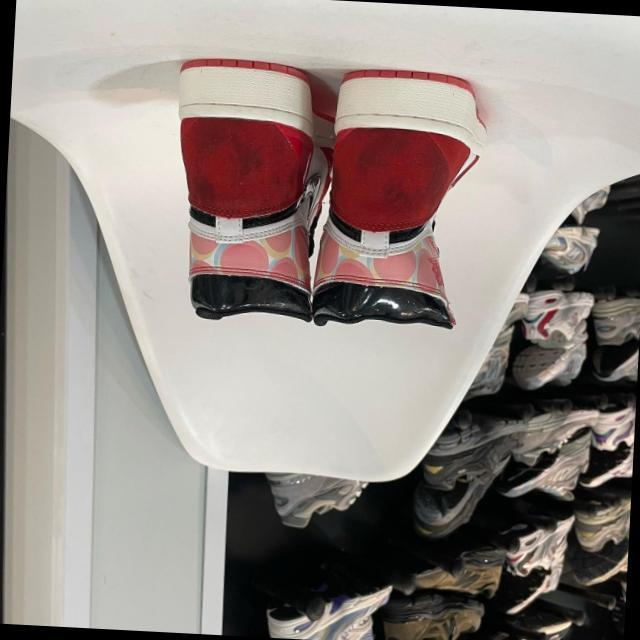nike fake jordan 1: (318, 68, 497, 334), (170, 56, 336, 325)
